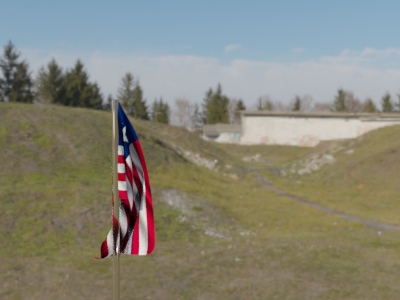Liberia flag: (99, 104, 165, 256)
